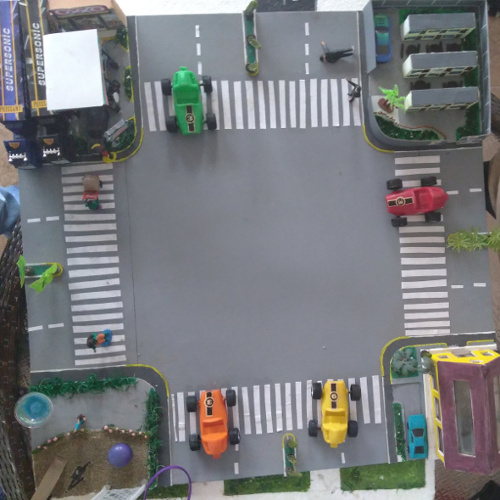amarillo: (310, 378, 360, 447)
naranja: (186, 388, 242, 456)
rojo: (383, 175, 447, 221)
verde: (162, 67, 215, 136)
